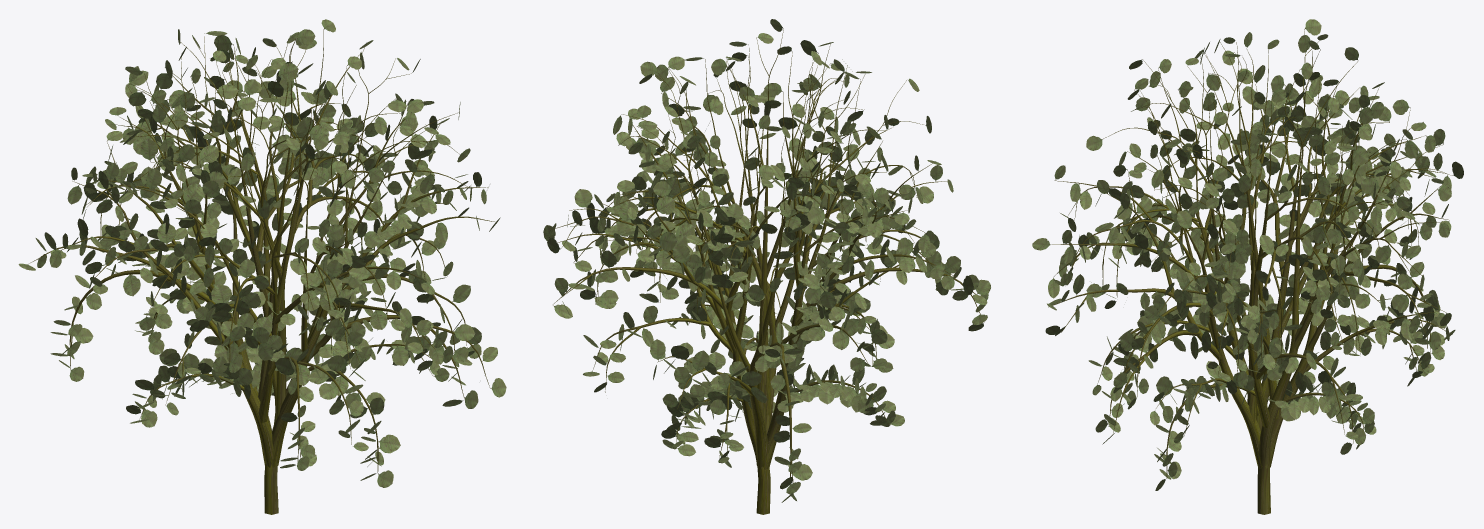
The model's file is Amazonie_Arbre_10.fbx.
3 renders of one model, left to right at view 1: azimuth 30°, elevation 25°; view 2: azimuth 150°, elevation 25°; view 3: azimuth 270°, elevation 25°, orthographic. The views are drawn at different scales.
Visible parts, largest first — view 1: Plane.001, tree; view 2: Plane.001, tree; view 3: Plane.001, tree.
Boxes of the visible parts, x1,y1,x2,y2 form: Plane.001: (18, 19, 506, 487); tree: (29, 29, 496, 514); Plane.001: (543, 19, 990, 502); tree: (551, 28, 980, 514); Plane.001: (1032, 19, 1463, 490); tree: (1048, 30, 1452, 514).
Size of the model in its own units: 581 by 712 by 593.
